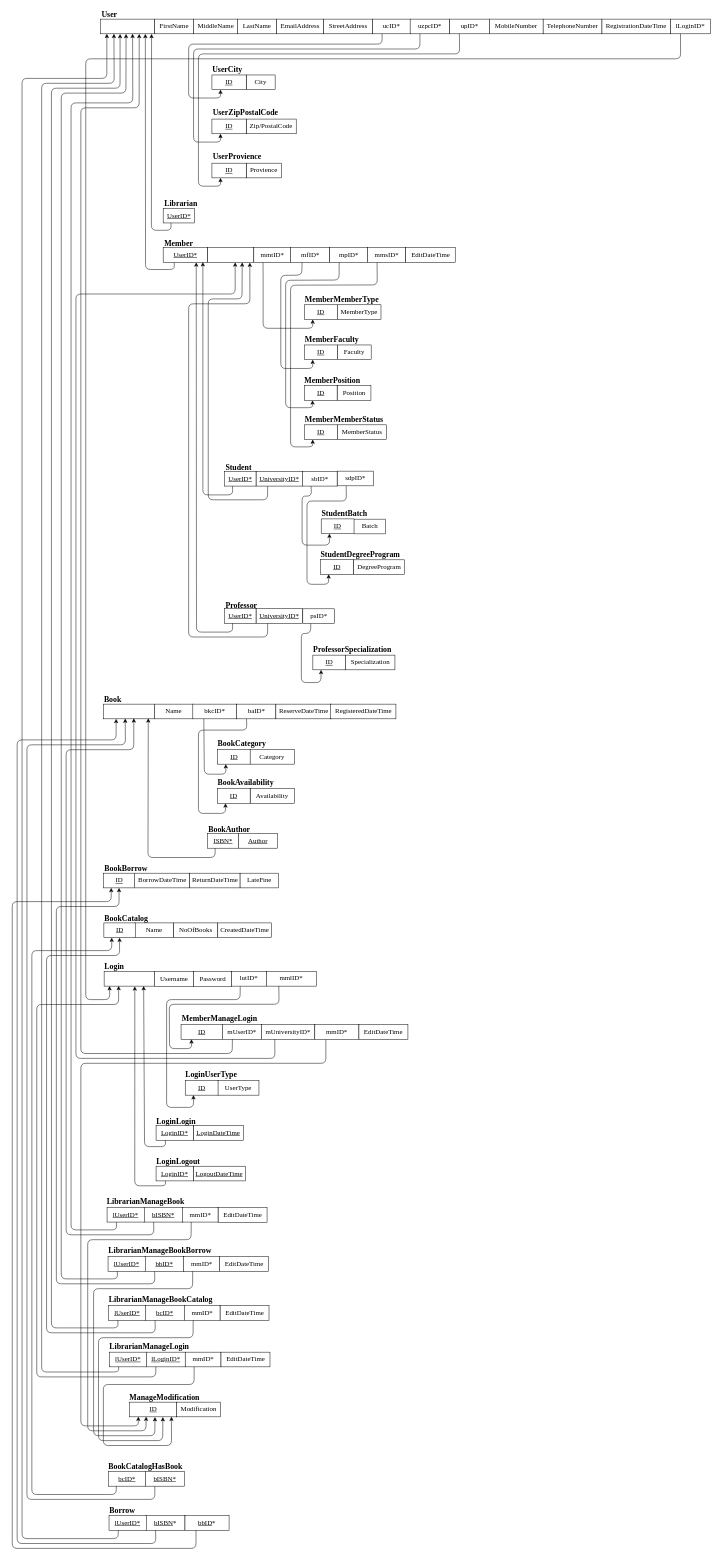
Image size: 719x1561. Some labels were removed from this diagram. The box of each missing label's shape, as (x1, y1, x2, y2) in pixels:
ISBN: (103, 704, 154, 719)
LoginID: (104, 971, 155, 986)
UniversityID: (207, 247, 254, 262)
UserID: (100, 19, 154, 34)
